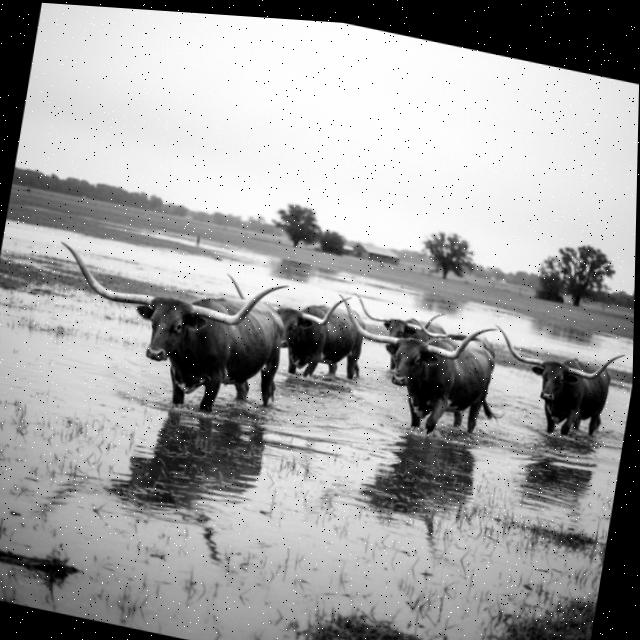cow: (40, 232, 321, 439), (314, 288, 517, 465), (211, 273, 386, 406), (473, 315, 632, 456), (336, 284, 462, 392)
